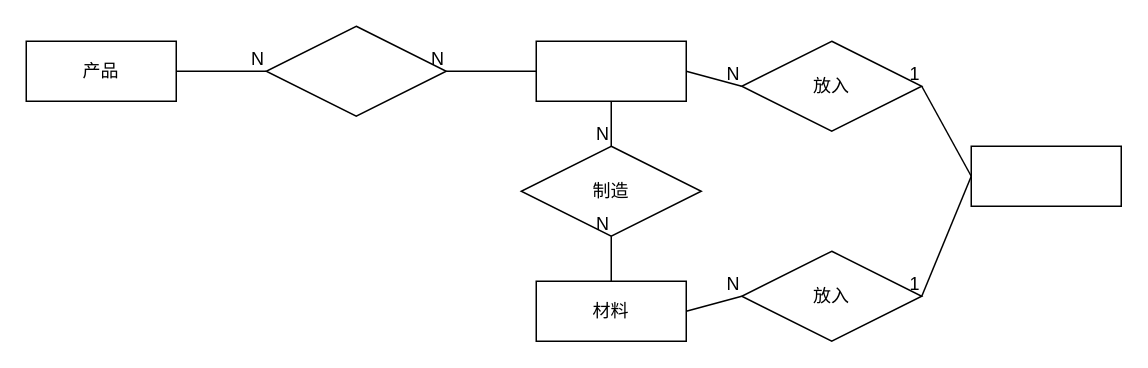
Image size: 1148x368. Some labels were removed from this diagram. Here are the shapes that lost their labels. From the top down, the centre of each, then its label:
(x=355, y=70): 组成
(x=610, y=70): 零件
(x=1045, y=175): 仓库
